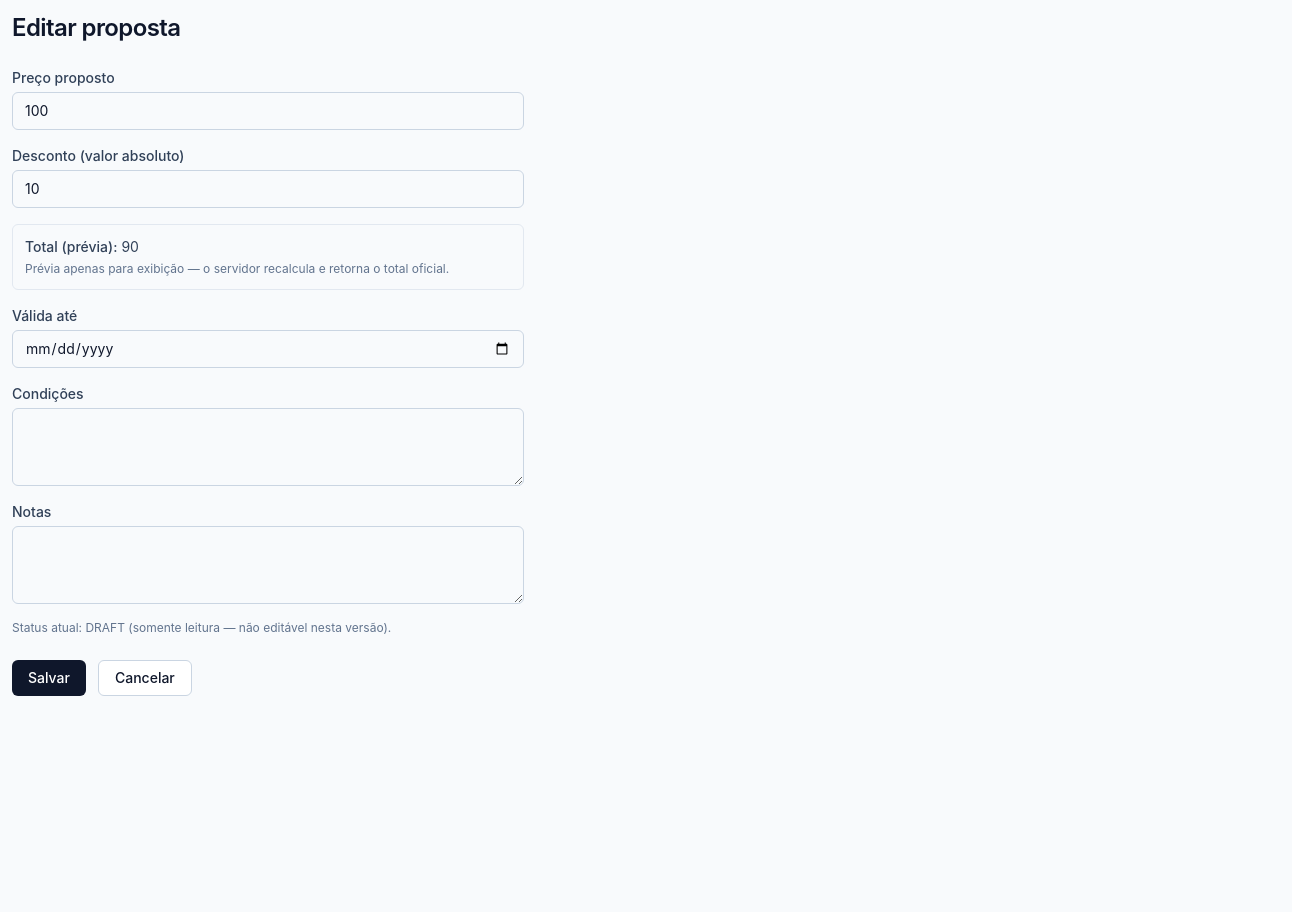
ProposalEditPage › shows a validation error message on submit failure
expect the number field labelled "Preço proposto" is shown: met, box [12, 92, 524, 130]
Click the button "Salvar".
click(49, 678)  # box [12, 660, 86, 696]
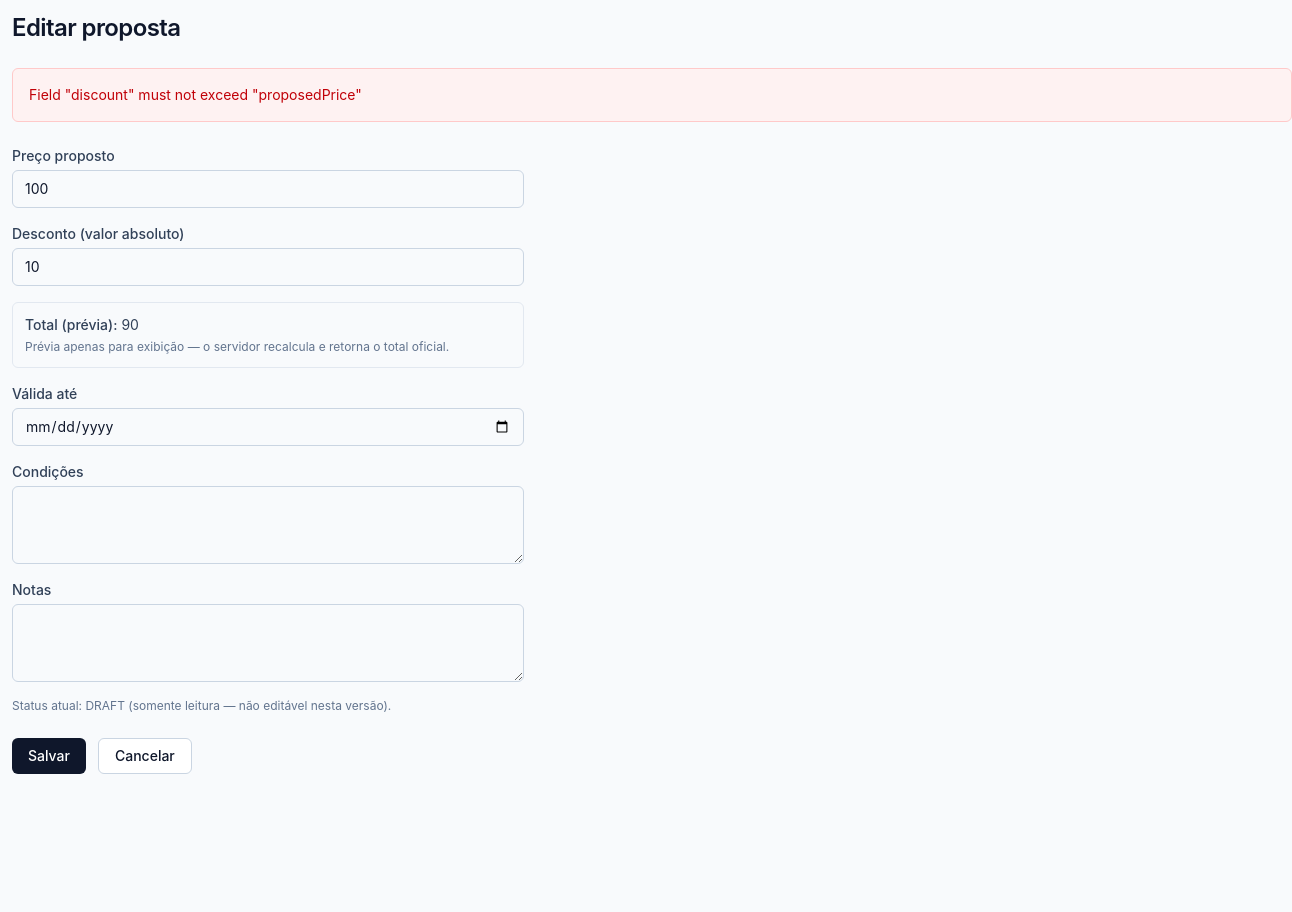
expect the text "Field \"discount\" must not exceed \"proposedPrice\"" is shown: met, box [12, 68, 1291, 122]
